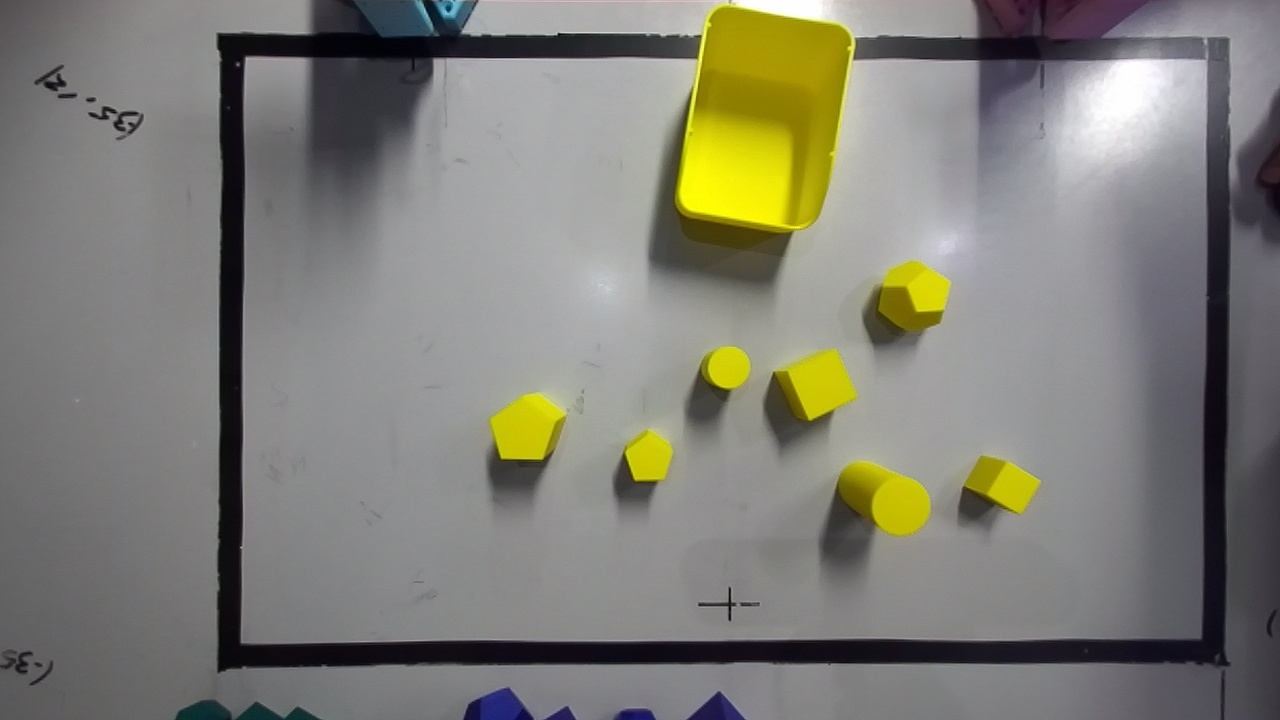bin: (676, 6, 853, 232)
cube: (774, 349, 856, 420), (964, 456, 1040, 512)
cylinder: (837, 461, 929, 535), (700, 346, 749, 389)
dodecahedron: (877, 261, 950, 330)
hexagonal: (489, 393, 565, 460), (624, 429, 672, 481)
